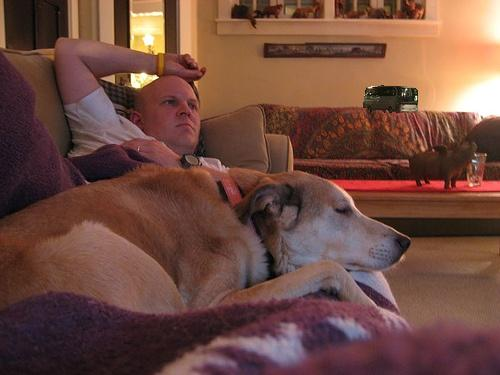tampered: (364, 86, 418, 113)
